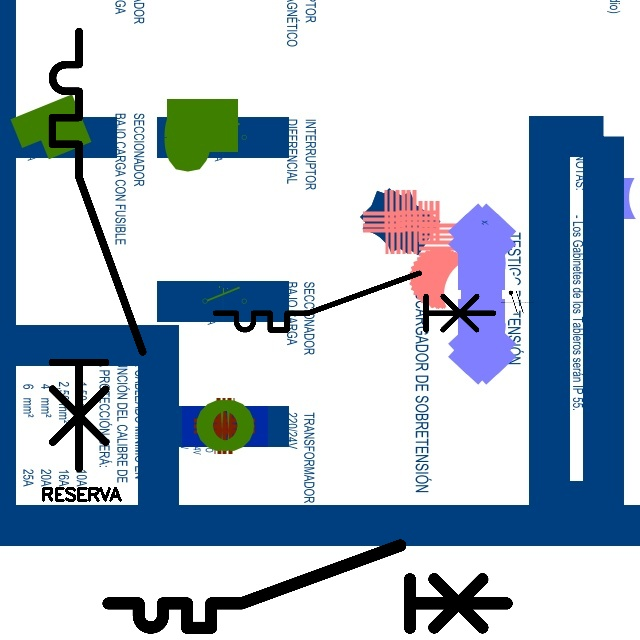interruptor_termomagnetico: (41, 20, 153, 480), (98, 535, 517, 638), (208, 266, 501, 337)
